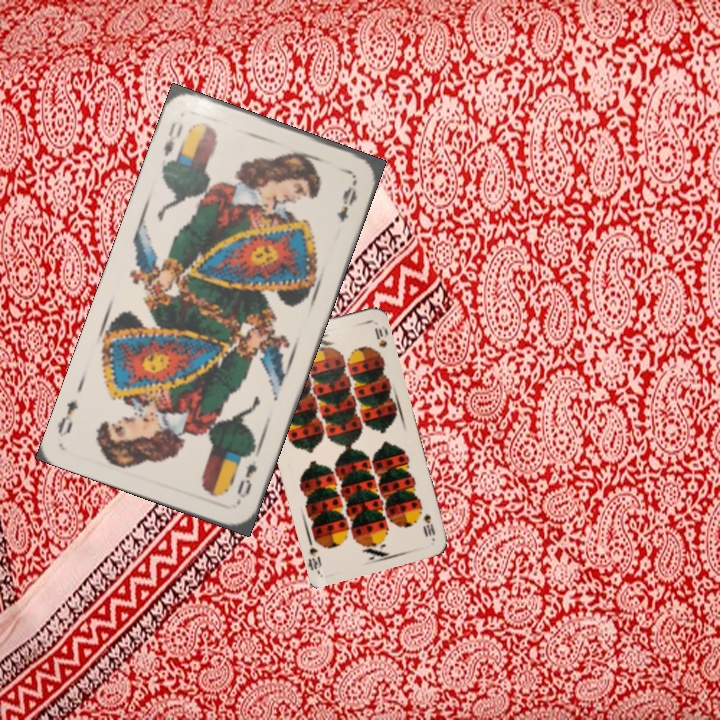EO: (232, 447, 260, 505), (159, 118, 186, 159)
S10: (419, 509, 438, 539)
